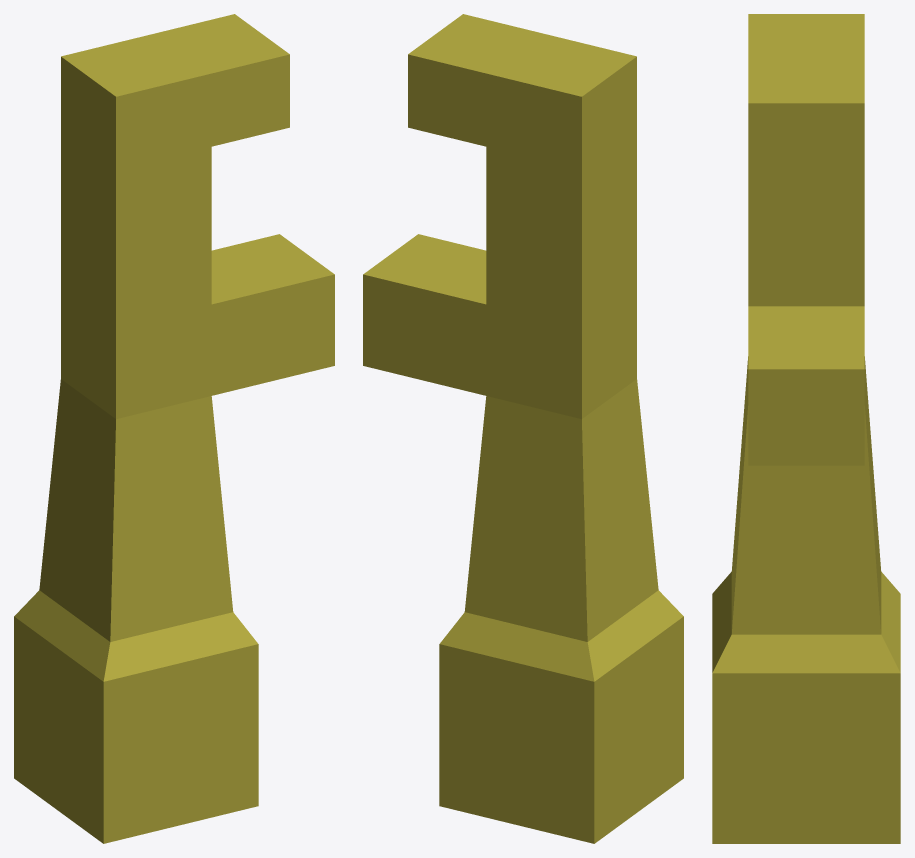
File: key.glb
3 renders of one model, left to right at view 1: azimuth 30°, elevation 25°; view 2: azimuth 150°, elevation 25°; view 3: azimuth 270°, elevation 25°, orthographic. The views are drawn at different scales.
Parts seen in each view (by area): view 1: Cube; view 2: Cube; view 3: Cube.
Part boxes in pixels (left/top/right/bottom): Cube: left=14, top=14, right=334, bottom=843; Cube: left=363, top=14, right=683, bottom=843; Cube: left=712, top=14, right=900, bottom=843.
Bounding box in the file's own units: 1.6 × 4.49 × 1.
Materials: 1 (1 with a texture image).
